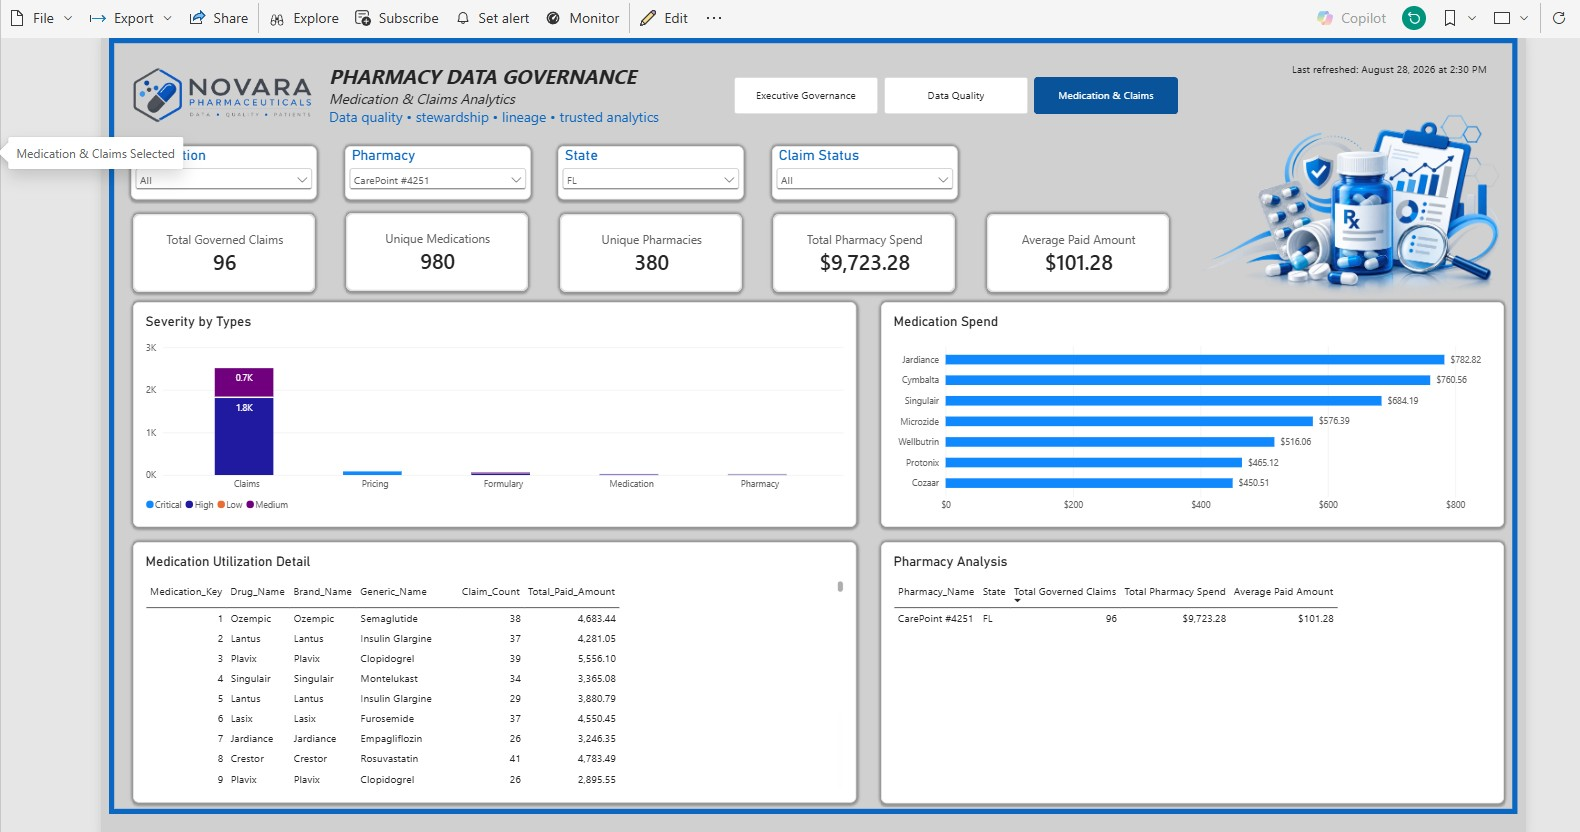

The dashboard page shown, as its layout file describes it:
{"tool":"powerbi","page":{"name":"Medication & Claims","canvas":[1920,1080],"ordinal":2},"visuals":[{"type":"shape","box":[10.7,0,1896.7,1045],"z":0},{"type":"textbox","box":[306.7,31.7,643.3,93.3],"z":1000},{"type":"cardVisual","title":"Governed Claim %","fields":{"Data":["reporting vw_governed_claims.Total Governed Claims"]},"box":[42.8,236.8,245,105],"z":2000},{"type":"cardVisual","title":"Governed Claim %","fields":{"Data":["reporting vw_governed_claims.Unique Medications"]},"box":[330.4,235.2,245,105],"z":3000},{"type":"cardVisual","title":"Governed Claim %","fields":{"Data":["reporting vw_governed_claims.Total Pharmacy Spend"]},"box":[905.4,236.8,245,105],"z":4000},{"type":"cardVisual","title":"Governed Claim %","fields":{"Data":["reporting vw_governed_claims.Average Paid Amount"]},"box":[1192.9,236.8,245,105],"z":5000},{"type":"columnChart","title":"Severity by Types","fields":{"Category":["reporting vw_data_quality_exception_detail.Domain"],"Series":["reporting vw_data_quality_exception_detail.Severity"],"Y":["CountNonNull(reporting vw_data_quality_exception_detail.Issue_Type)"]},"box":[43.1,355.5,973.6,303],"z":6000},{"type":"image","box":[35,11.7,255,133.3],"z":7000},{"type":"slicer","title":"Domain","fields":{"Values":["reporting vw_medication_governance.Drug_Name"]},"box":[40,145,250,71.7],"z":8000},{"type":"slicer","title":"Domain","fields":{"Values":["reporting vw_governed_claims.Pharmacy_Name"]},"box":[327.9,145,250,71.7],"z":9000},{"type":"slicer","title":"Domain","fields":{"Values":["reporting vw_governed_claims.State"]},"box":[615.8,145,250,71.7],"z":10000},{"type":"slicer","title":"Domain","fields":{"Values":["reporting vw_governed_claims.Claim_Status"]},"box":[903.8,145,250,71.7],"z":11000},{"type":"tableEx","title":"Medication Utilization Detail","fields":{"Values":["reporting vw_medication_governance.Medication_Key","reporting vw_medication_governance.Drug_Name","reporting vw_medication_governance.Brand_Name","reporting vw_medication_governance.Generic_Name","reporting vw_medication_governance.Claim_Count","reporting vw_medication_governance.Total_Paid_Amount"]},"box":[43.1,678.7,973.6,351.5],"z":12000},{"type":"cardVisual","title":"Governed Claim %","fields":{"Data":["reporting vw_governed_claims.Unique Pharmacies"]},"box":[617.9,236.8,245,105],"z":13000},{"type":"barChart","title":"Medication Spend","fields":{"Category":["reporting vw_medication_governance.Drug_Name"],"Y":["reporting vw_governed_claims.Total Pharmacy Spend"]},"box":[1051,355.1,838.7,303.3],"z":14000},{"type":"tableEx","title":"Pharmacy Analysis","fields":{"Values":["reporting vw_governed_claims.Pharmacy_Name","reporting vw_governed_claims.State","reporting vw_governed_claims.Total Governed Claims","reporting vw_governed_claims.Total Pharmacy Spend","reporting vw_governed_claims.Average Paid Amount"]},"box":[1051,678.1,838.7,351.5],"z":15000},{"type":"image","box":[1377.8,44.3,511.7,351.3],"z":16000},{"type":"pageNavigator","box":[852.3,51.9,600,50],"z":16001},{"type":"textbox","box":[1603.8,32.1,291.7,62.6],"z":16002}]}

Visuals, with their boxes on the page's 1920x1080 design canvas (x1, y1, x2, y2). These are canvas units, not pixel positions in the 1580x832 screenshot, which may show the page scaled, cropped or inside an application window:
shape: x1=11 y1=0 x2=1907 y2=1045
textbox: x1=307 y1=32 x2=950 y2=125
"Governed Claim %" cardVisual: x1=43 y1=237 x2=288 y2=342
"Governed Claim %" cardVisual: x1=330 y1=235 x2=575 y2=340
"Governed Claim %" cardVisual: x1=905 y1=237 x2=1150 y2=342
"Governed Claim %" cardVisual: x1=1193 y1=237 x2=1438 y2=342
"Severity by Types" columnChart: x1=43 y1=356 x2=1017 y2=658
image: x1=35 y1=12 x2=290 y2=145
"Domain" slicer: x1=40 y1=145 x2=290 y2=217
"Domain" slicer: x1=328 y1=145 x2=578 y2=217
"Domain" slicer: x1=616 y1=145 x2=866 y2=217
"Domain" slicer: x1=904 y1=145 x2=1154 y2=217
"Medication Utilization Detail" tableEx: x1=43 y1=679 x2=1017 y2=1030
"Governed Claim %" cardVisual: x1=618 y1=237 x2=863 y2=342
"Medication Spend" barChart: x1=1051 y1=355 x2=1890 y2=658
"Pharmacy Analysis" tableEx: x1=1051 y1=678 x2=1890 y2=1030
image: x1=1378 y1=44 x2=1890 y2=396
pageNavigator: x1=852 y1=52 x2=1452 y2=102
textbox: x1=1604 y1=32 x2=1896 y2=95
